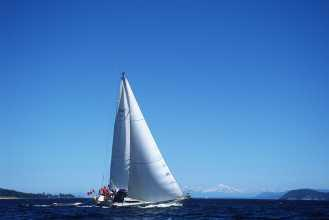fanchuan: (89, 69, 188, 208)
